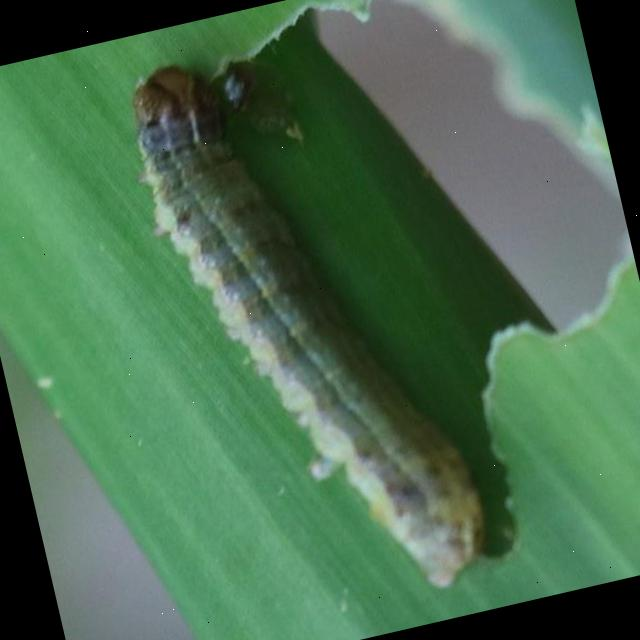worm: (117, 20, 502, 637)
